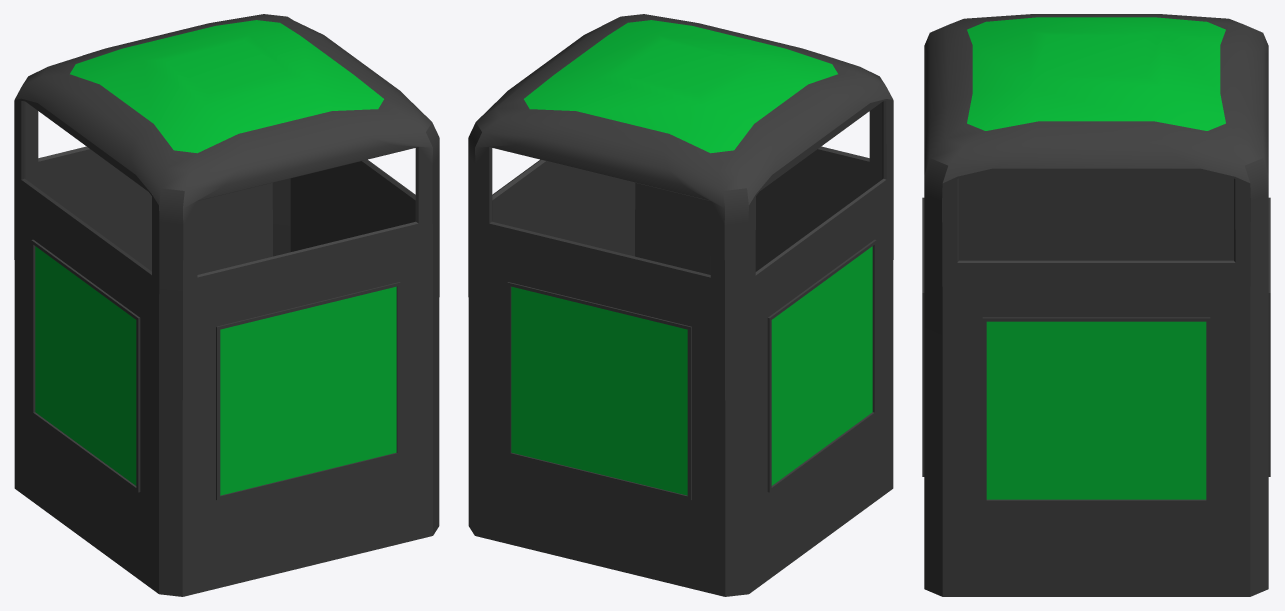
File: Green Beach Bin.fbx
3 renders of one model, left to right at view 1: azimuth 30°, elevation 25°; view 2: azimuth 150°, elevation 25°; view 3: azimuth 270°, elevation 25°, orthographic. The views are drawn at different scales.
Parts seen in each view (by area): view 1: pCube5; view 2: pCube5; view 3: pCube5.
Boxes of the visible parts, x1,y1,x2,y2 form: pCube5: [14, 14, 439, 596]; pCube5: [468, 14, 893, 596]; pCube5: [922, 14, 1270, 596].
Size of the model in its own units: 1.01 by 1.5 by 1.01.
2 materials, 1 textured.
